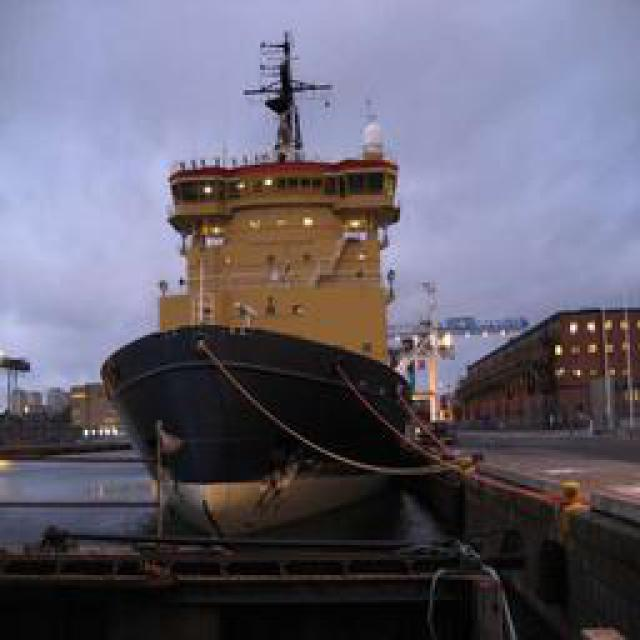Ship: (54, 326, 537, 559)
